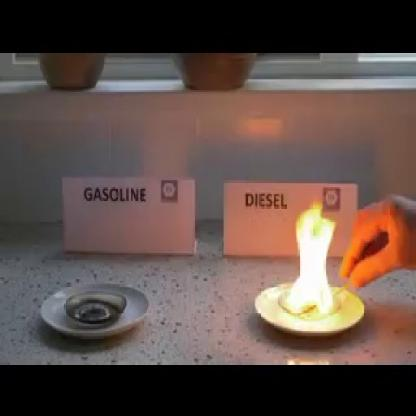fire: (282, 195, 342, 317)
